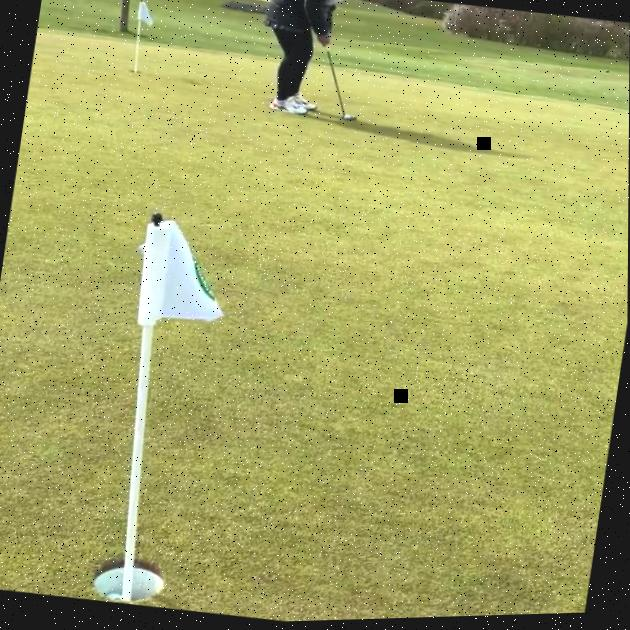ClubHead: (341, 116, 356, 122)
GolfBall: (344, 116, 350, 121)
